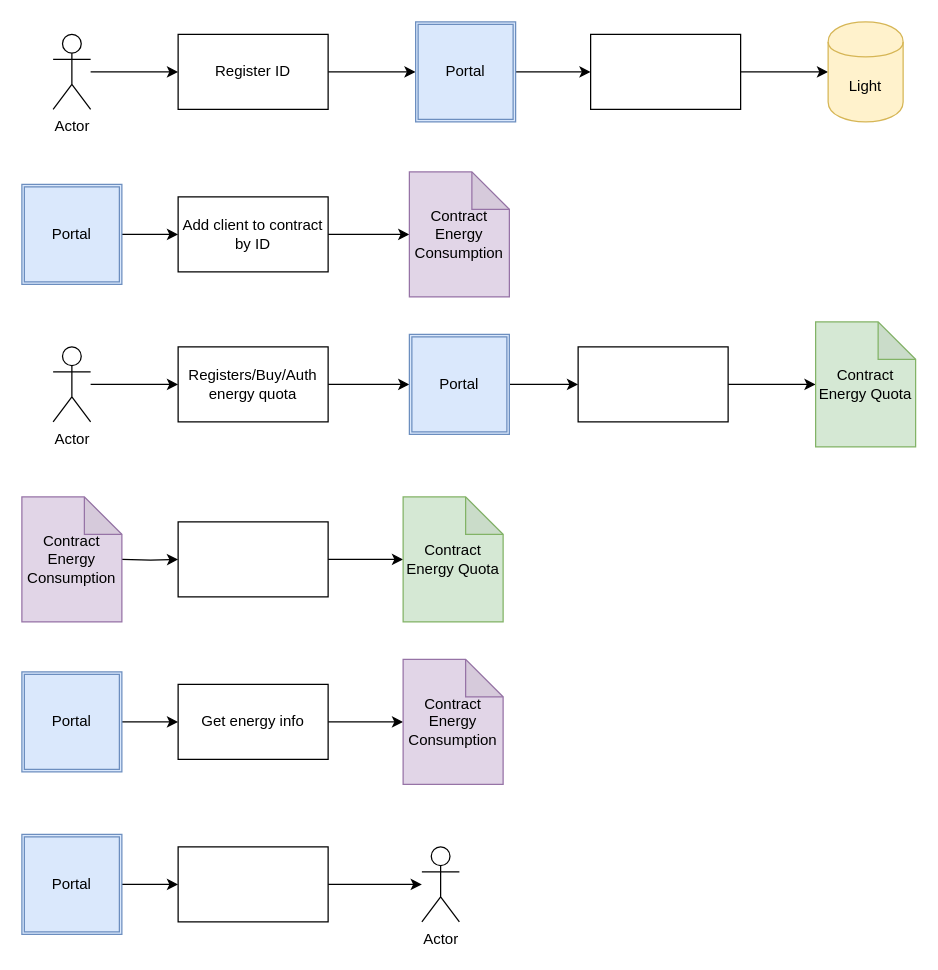
Some shapes in this 938 by 970 pixel diagram are drawn without their labels. The centre of each missing label's shape, as x and y in pixels:
"Add client and quota to contract by ID" goes at (652,384).
"Get ID information" goes at (665,71).
"Get quota and calculate energy info" goes at (252,559).
"Show info" goes at (252,884).
